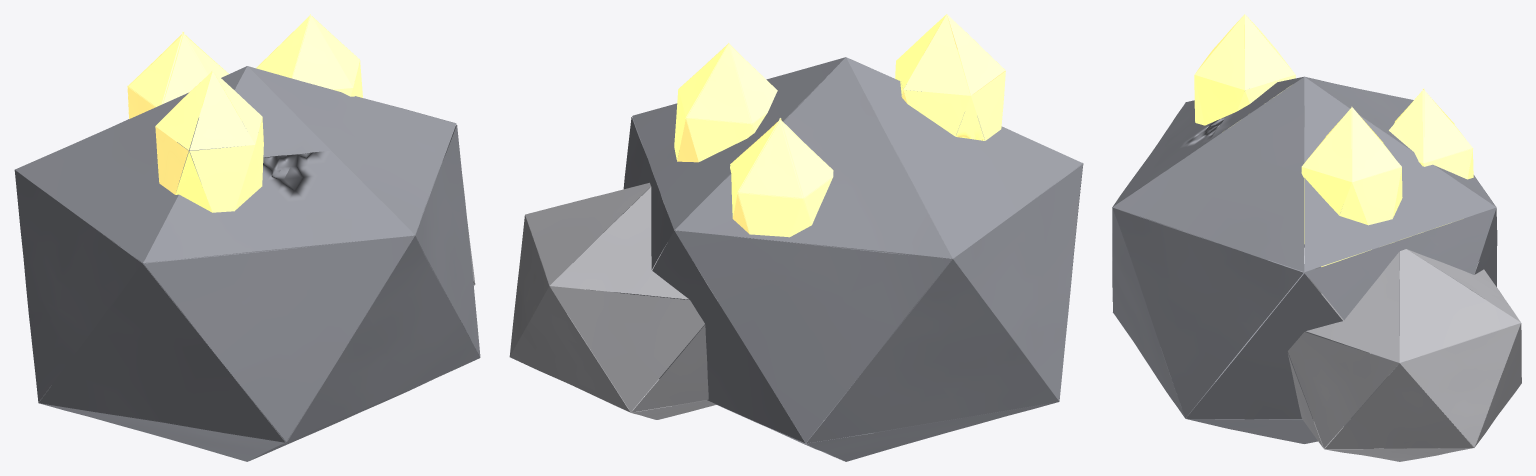
File: gold_node.glb
The picture shows the model from 3 angles, left to right: view 1: azimuth 30°, elevation 25°; view 2: azimuth 150°, elevation 25°; view 3: azimuth 270°, elevation 25°; orthographic projection. The views are drawn at different scales.
Parts seen in each view (by area): view 1: GoldNodeRock; view 2: GoldNodeRock; view 3: GoldNodeRock.
Part boxes in pixels (x1=…): GoldNodeRock: x1=14, y1=14, x2=480, y2=461; GoldNodeRock: x1=509, y1=14, x2=1083, y2=461; GoldNodeRock: x1=1112, y1=14, x2=1521, y2=461.
Size of the model in its own units: 0.8487 by 0.741 by 0.6882.
